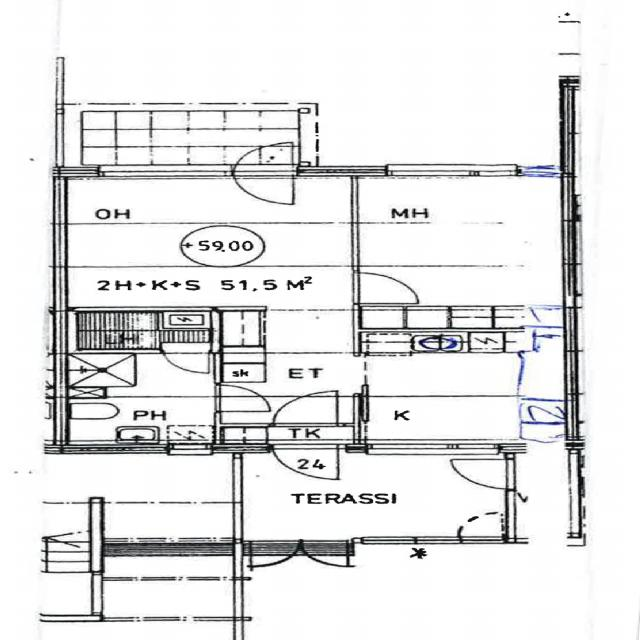door: (275, 445, 337, 485), (234, 165, 292, 206), (234, 136, 292, 176), (273, 392, 337, 428), (445, 460, 515, 489), (352, 273, 422, 302), (213, 384, 276, 412), (298, 539, 348, 568), (250, 539, 298, 568), (163, 349, 208, 376)
